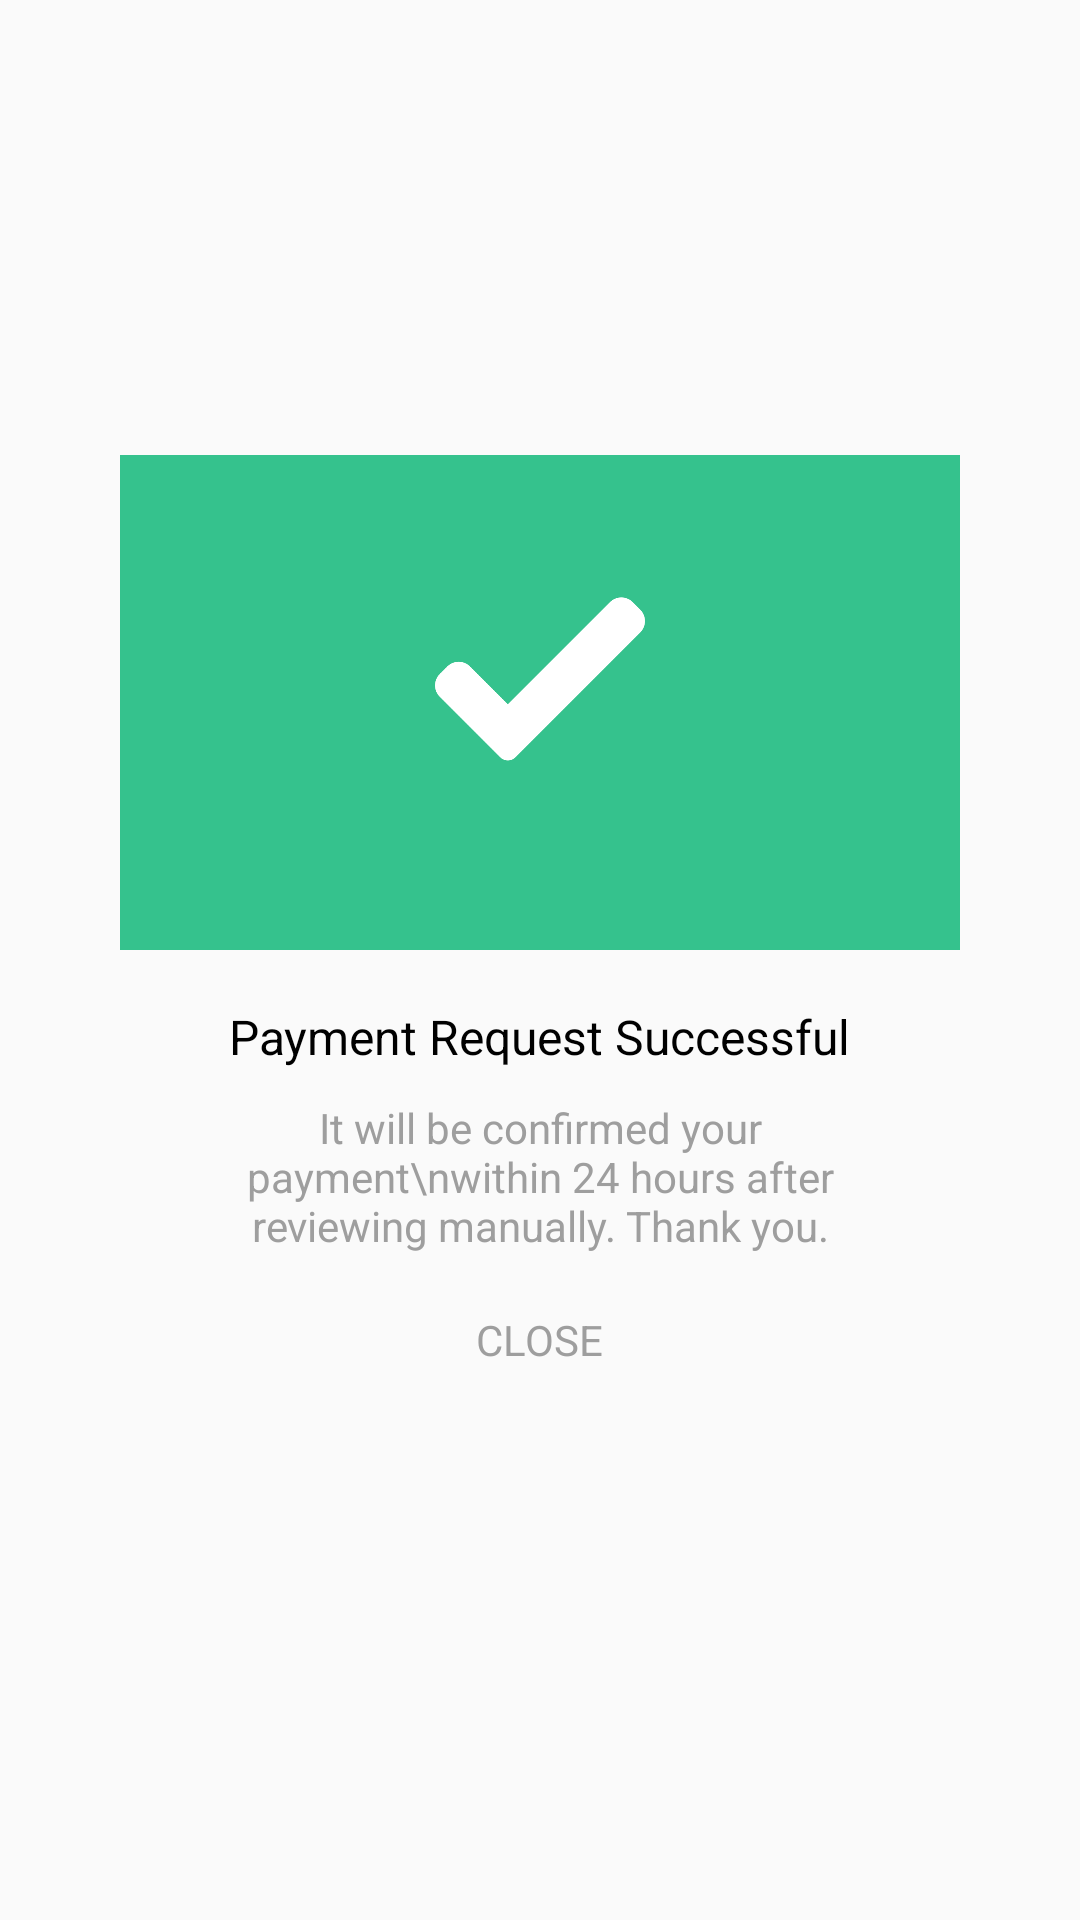

Named icons in this screenshot (1080px x 1920px) and their centers, (x,y):
check: (540,679)
